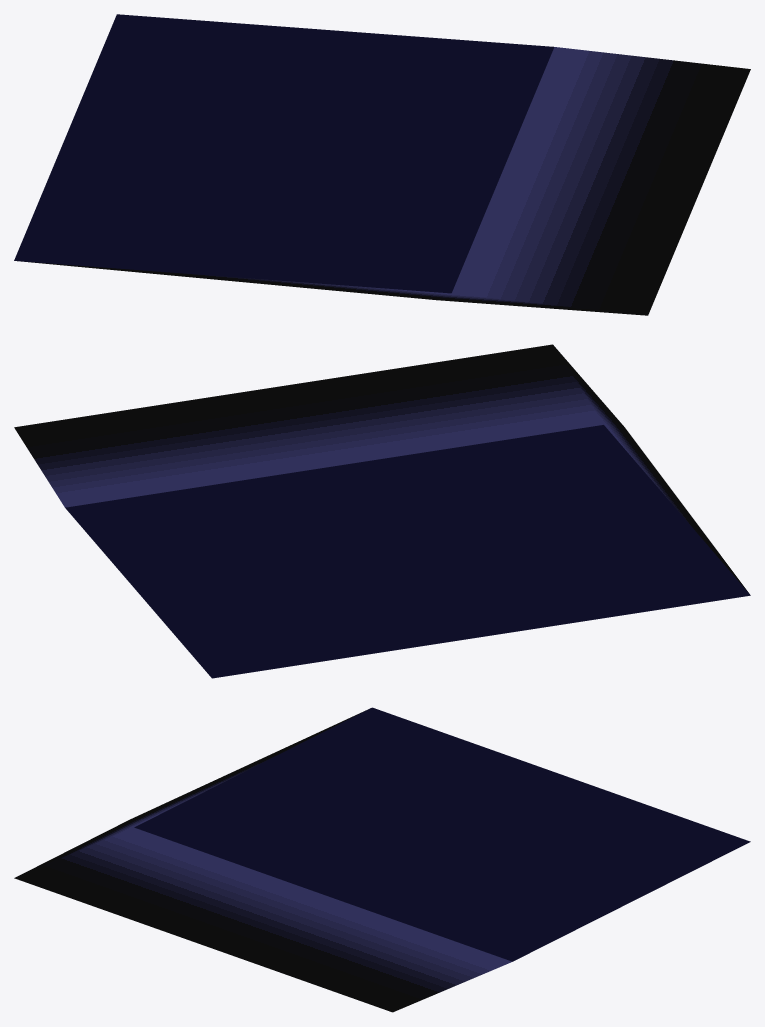
3 renders of one model, top to bottom at view 1: azimuth 30°, elevation 25°; view 2: azimuth 150°, elevation 25°; view 3: azimuth 270°, elevation 25°, orthographic. The views are drawn at different scales.
Visible parts, largest first — view 1: Joint_0_Object_0; view 2: Joint_0_Object_0; view 3: Joint_0_Object_0.
Boxes of the visible parts, x1=… form: Joint_0_Object_0: x1=14, y1=14, x2=750, y2=315; Joint_0_Object_0: x1=14, y1=344, x2=750, y2=678; Joint_0_Object_0: x1=14, y1=707, x2=750, y2=1012.
Bounding box in the file's own units: 1460 × 0 × 1491.
1 material, 1 textured.
